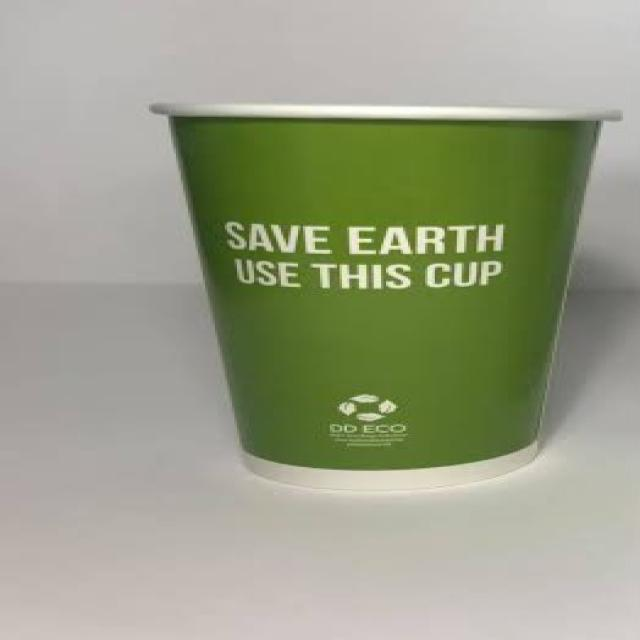plastic cup: (112, 37, 640, 515)
